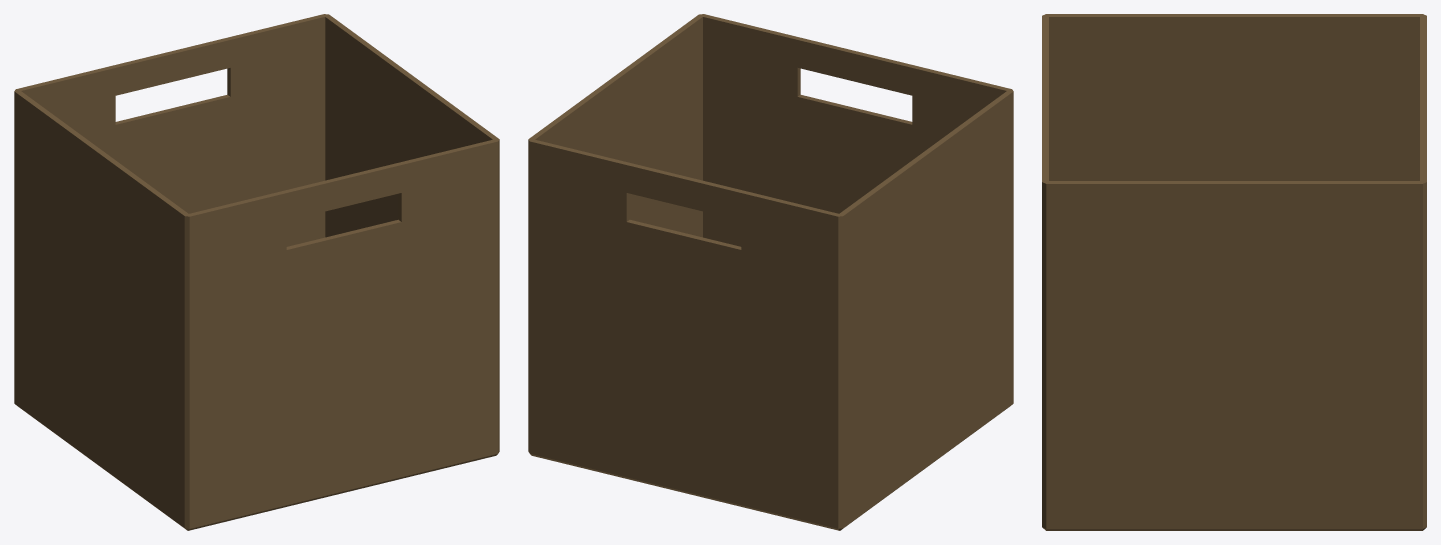
3 views of the same model, side by side, from view 1: azimuth 30°, elevation 25°; view 2: azimuth 150°, elevation 25°; view 3: azimuth 270°, elevation 25° (orthographic). The views are drawn at different scales.
Visible parts, largest first — view 1: box; view 2: box; view 3: box.
Part boxes in pixels (bbox=[...]): box: bbox=[14, 14, 499, 530]; box: bbox=[528, 14, 1013, 530]; box: bbox=[1042, 14, 1426, 530].
Bounding box in the file's own units: 29.24 × 28 × 27.99.
